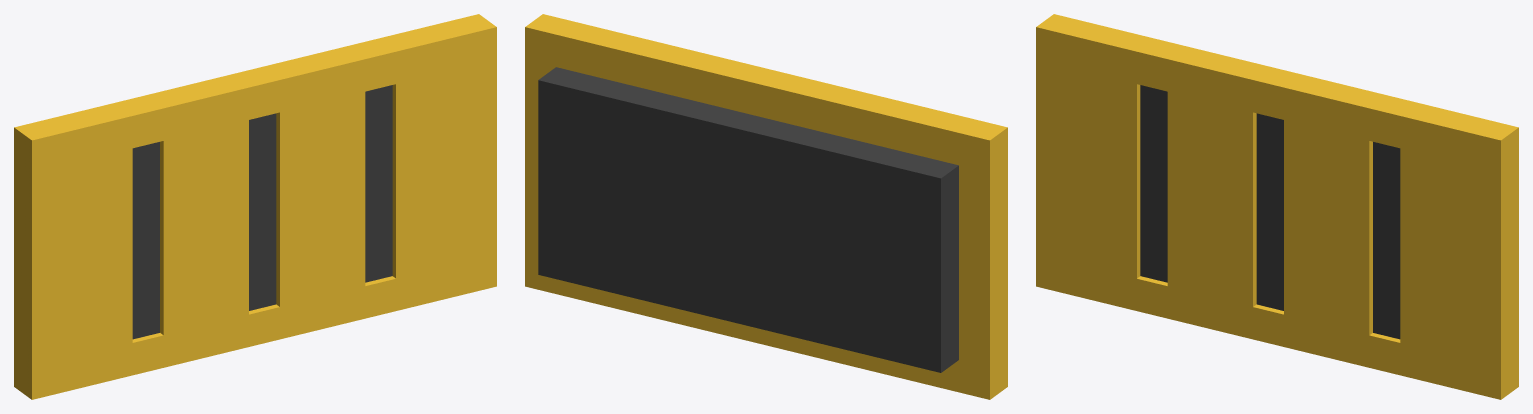
Rendered from KickerPad.fbx.
3 views of the same model, side by side, from view 1: azimuth 30°, elevation 25°; view 2: azimuth 150°, elevation 25°; view 3: azimuth 330°, elevation 25° (orthographic).
Parts seen in each view (by area): view 1: KickerPad; view 2: KickerPad; view 3: KickerPad.
Part boxes in pixels (bbox=[...]): KickerPad: bbox=[14, 14, 496, 399]; KickerPad: bbox=[525, 14, 1007, 399]; KickerPad: bbox=[1036, 14, 1518, 399].
Bounding box in the file's own units: 112 × 60 × 15.
